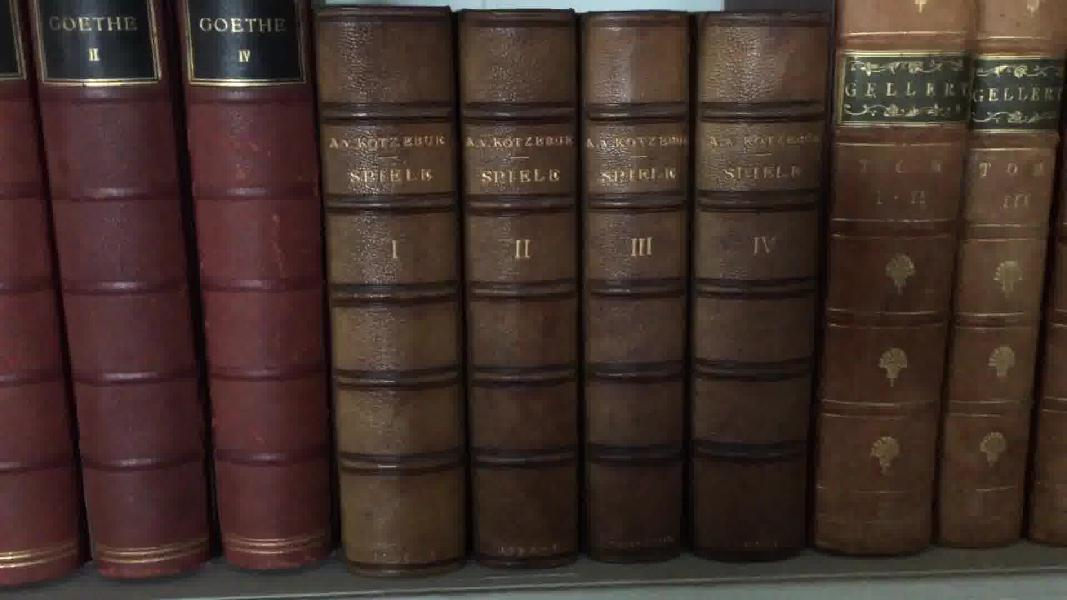Aa6-14_17: (311, 11, 825, 581)
